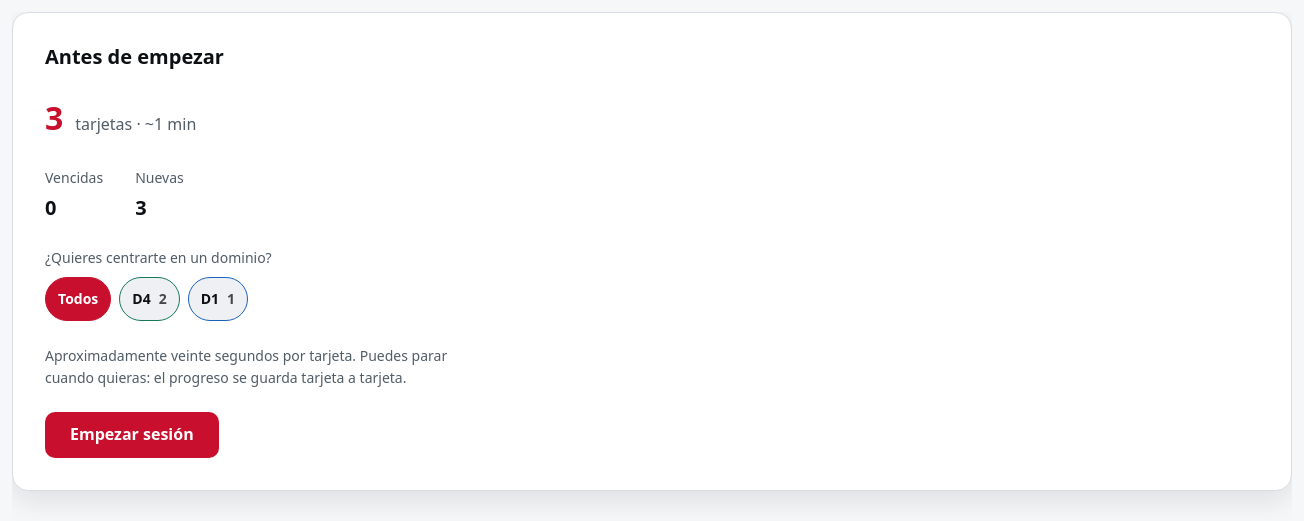
Test: ReviewSession (integración store + servicio + UI) › permite la práctica dirigida por dominio
Click the button "D4 2".
click(150, 299)  # box [119,277,180,321]
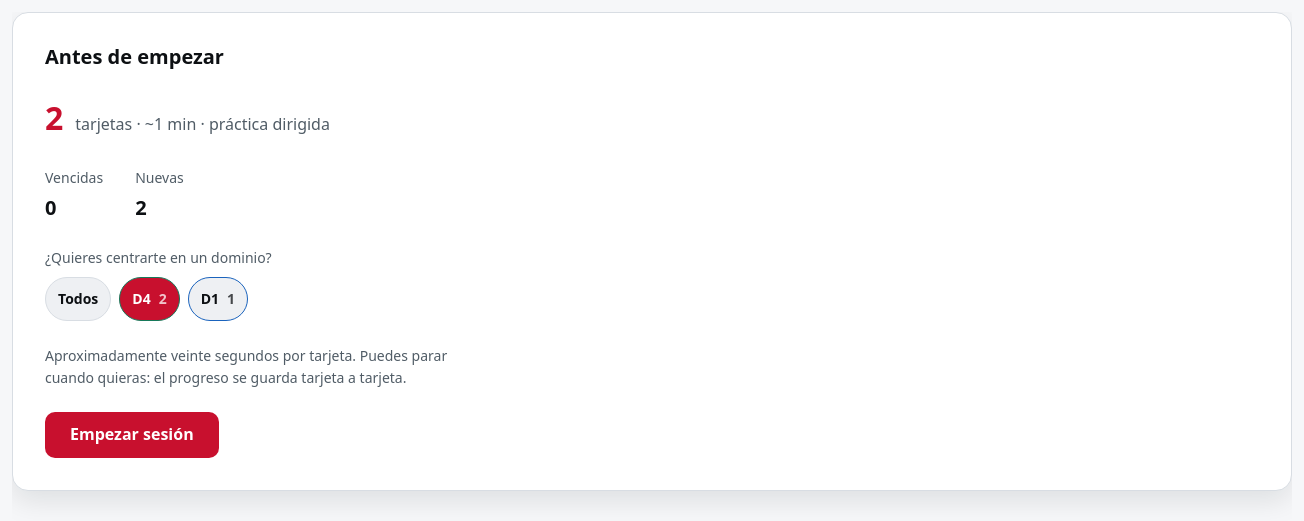
Now the text "2 tarjetas · ~1 min · práctica dirigida" is shown, box [45,93,330,143]
Click the button "Empezar sesión".
click(132, 435)  # box [45,412,219,458]
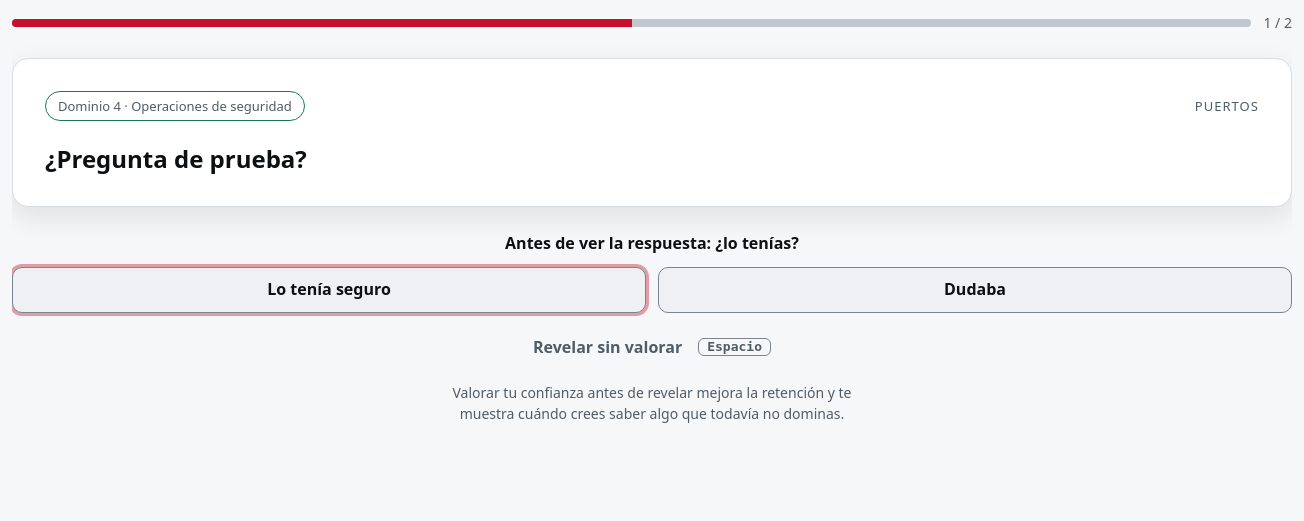
Now the text "Dominio 4 · Operaciones de seguridad" is shown, box [45,91,305,121]
